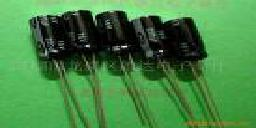Electrolytic Capacitor: (167, 17, 223, 111), (59, 8, 103, 69), (24, 9, 64, 73), (95, 8, 138, 64), (130, 13, 169, 73)
